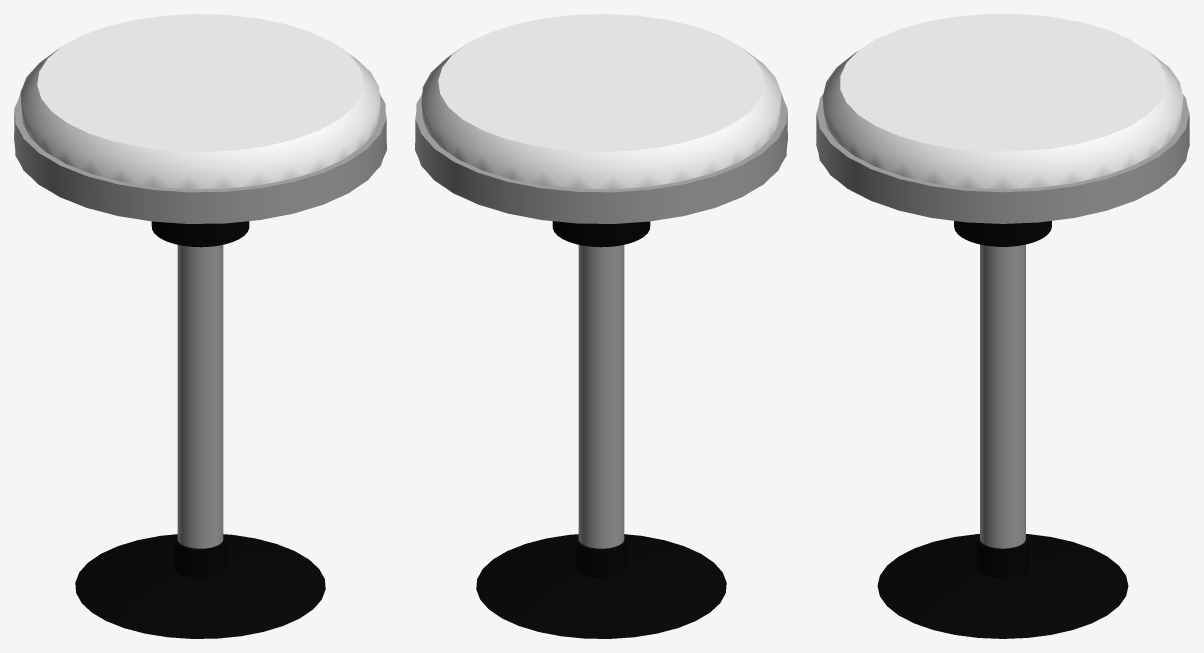
File: stool.fbx
The picture shows the model from 3 angles, left to right: view 1: azimuth 30°, elevation 25°; view 2: azimuth 150°, elevation 25°; view 3: azimuth 270°, elevation 25°; orthographic projection.
Visible parts, largest first — view 1: stool; view 2: stool; view 3: stool.
Boxes of the visible parts, box(x1,y1,x2,y2) form: stool: box(14, 14, 386, 638); stool: box(415, 14, 787, 638); stool: box(816, 14, 1189, 638).
Size of the model in its own units: 0.685 by 1.02 by 0.685.
